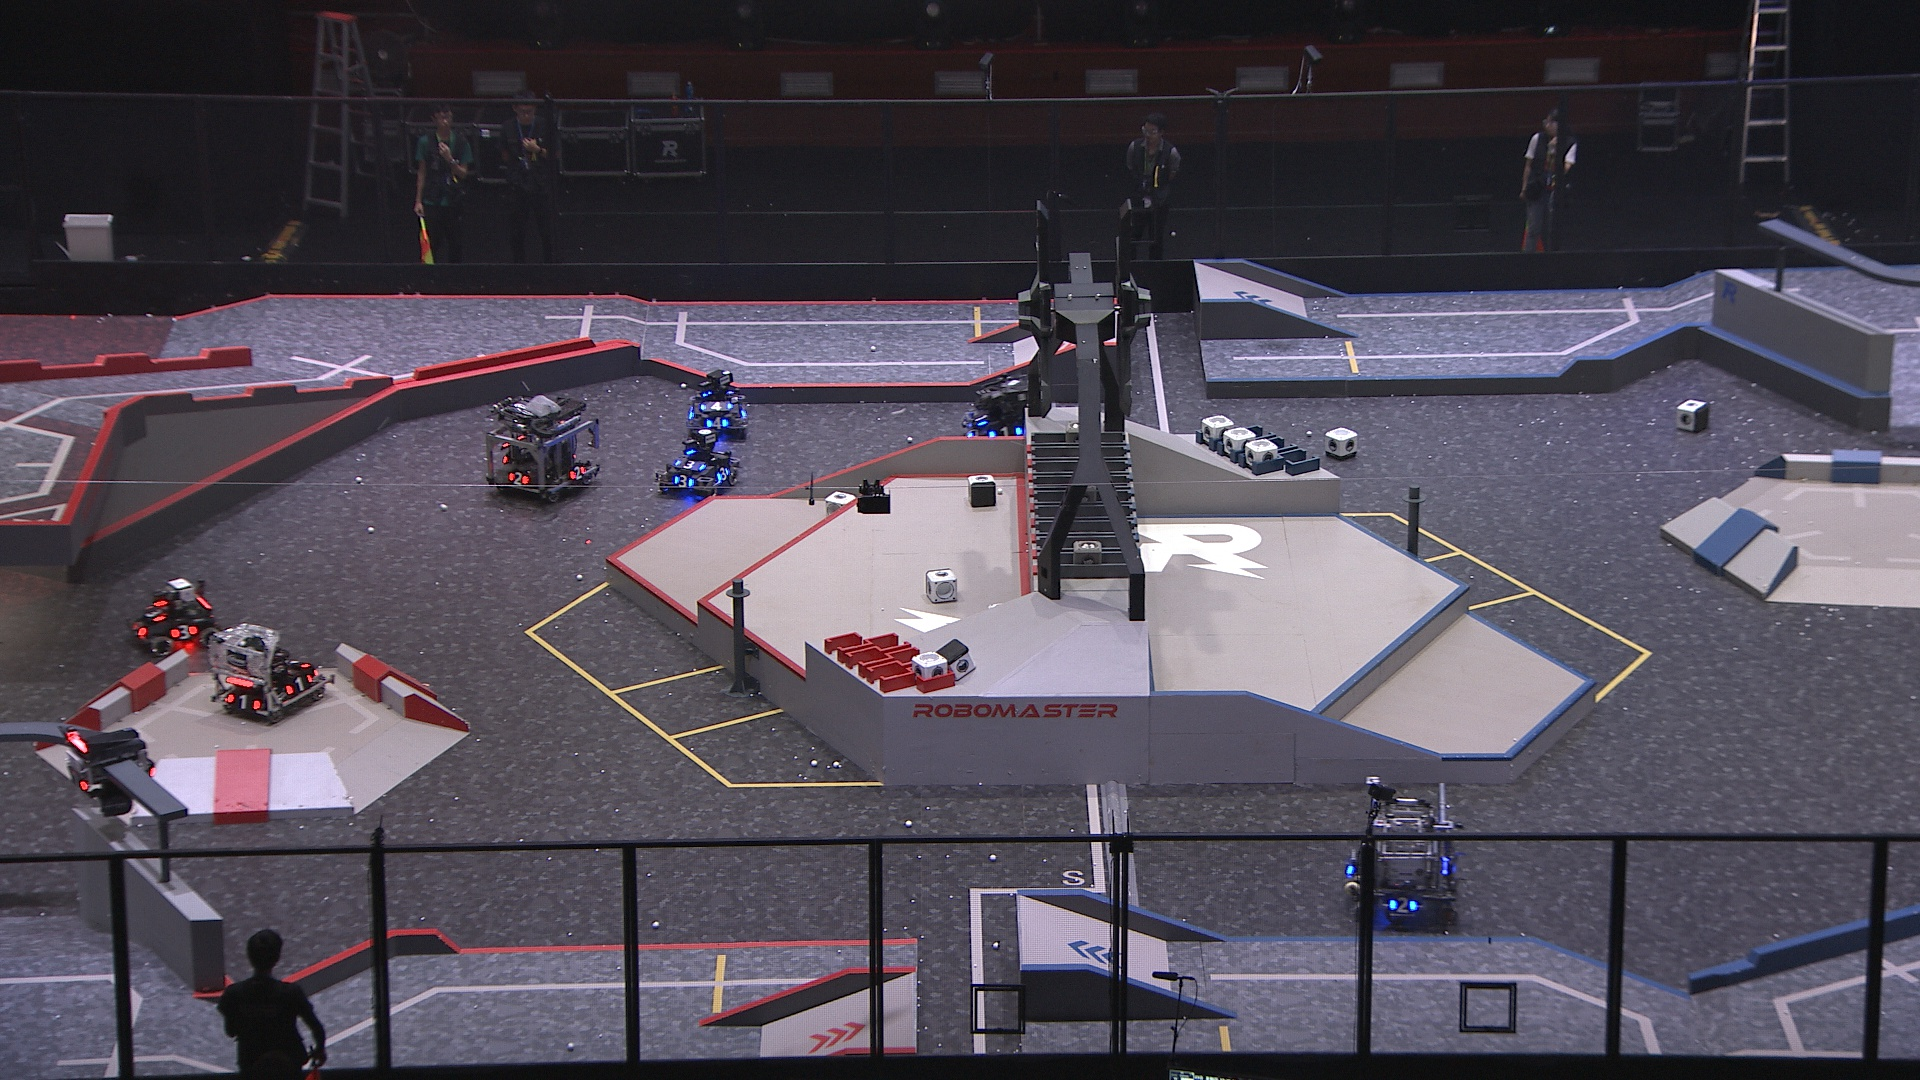armor: (225, 692, 262, 713), (67, 761, 90, 793), (285, 674, 316, 695), (142, 603, 169, 626), (1389, 895, 1418, 916), (167, 622, 199, 641), (698, 400, 735, 414), (131, 618, 152, 641), (705, 414, 731, 433), (675, 458, 705, 472), (508, 471, 531, 488), (988, 427, 1026, 438), (673, 475, 698, 491), (568, 463, 588, 481), (971, 410, 989, 427), (287, 659, 314, 671), (716, 465, 732, 485), (967, 429, 986, 438)
car: (1348, 774, 1462, 926), (487, 390, 604, 508), (207, 622, 335, 723), (961, 375, 1054, 462), (131, 578, 225, 657), (654, 429, 742, 498), (684, 367, 752, 436)
watcher: (65, 727, 158, 820)
